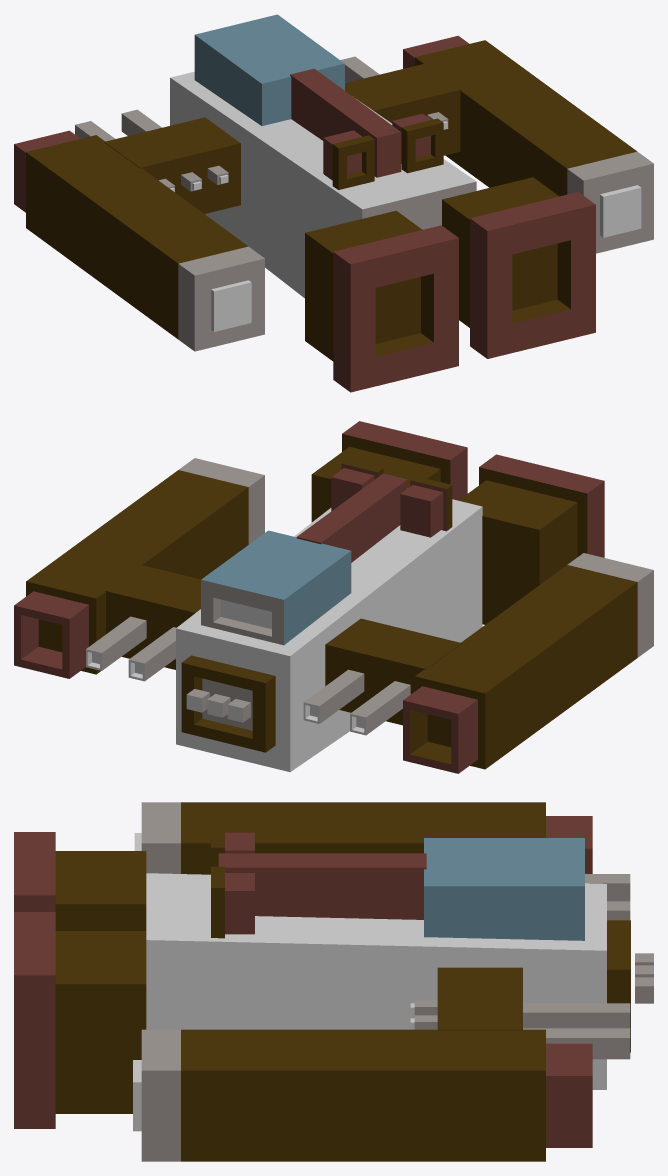
Rendered from Agile_red_spaceship.fbx.
3 renders of one model, top to bottom at view 1: azimuth 30°, elevation 25°; view 2: azimuth 150°, elevation 25°; view 3: azimuth 270°, elevation 25°, orthographic. The views are drawn at different scales.
Parts seen in each view (by area): view 1: polySurface144; view 2: polySurface144; view 3: polySurface144.
Part boxes in pixels (left/top/right/bottom): polySurface144: left=14, top=14, right=653, bottom=392; polySurface144: left=14, top=421, right=653, bottom=773; polySurface144: left=14, top=802, right=653, bottom=1161.
Size of the model in its own units: 129 by 46.8 by 130.
